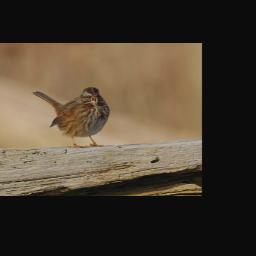Sparrow: (30, 86, 109, 148)
